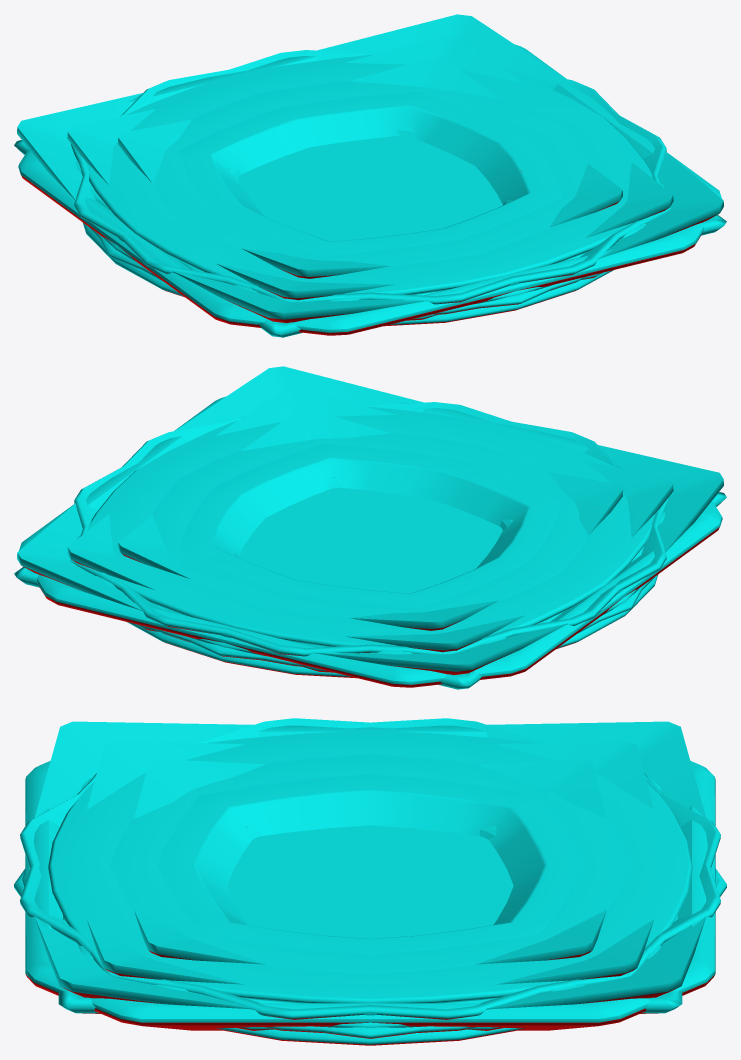
The model's file is plate_shards_grp.fbx.
3 views of the same model, one above another, from view 1: azimuth 30°, elevation 25°; view 2: azimuth 150°, elevation 25°; view 3: azimuth 270°, elevation 25° (orthographic). The views are drawn at different scales.
Visible parts, largest first — view 1: plate_18_shard_10, plate_18_shard_15, plate_18_shard_4, plate_16_shard_1, plate_30_shard_13, plate_16_shard_8, plate_30_shard_2, plate_15_shard_14, plate_15_shard_16, plate_15_shard_9, plate_18_shard_14, plate_17_shard_16 (+58 smaller); view 2: plate_18_shard_4, plate_18_shard_10, plate_18_shard_15, plate_16_shard_13, plate_30_shard_12, plate_15_shard_16, plate_16_shard_15, plate_30_shard_2, plate_18_shard_14, plate_15_shard_14, plate_17_shard_16, plate_15_shard_9 (+57 smaller); view 3: plate_18_shard_15, plate_18_shard_4, plate_16_shard_7, plate_18_shard_10, plate_16_shard_1, plate_18_shard_14, plate_30_shard_16, plate_18_shard_16, plate_30_shard_15, plate_15_shard_9, plate_16_shard_14, plate_16_shard_13 (+61 smaller).
Part boxes in pixels (x1,y1,x2,y2): plate_18_shard_10: [87, 166, 326, 302]; plate_18_shard_15: [321, 221, 605, 301]; plate_18_shard_4: [125, 56, 359, 131]; plate_16_shard_1: [178, 107, 309, 187]; plate_30_shard_13: [253, 258, 591, 335]; plate_16_shard_8: [361, 91, 484, 151]; plate_30_shard_2: [47, 186, 326, 326]; plate_15_shard_14: [368, 14, 595, 100]; plate_15_shard_16: [605, 151, 723, 255]; plate_15_shard_9: [17, 81, 189, 174]; plate_18_shard_14: [491, 67, 620, 140]; plate_17_shard_16: [167, 81, 345, 148]; plate_18_shard_4: [133, 578, 452, 654]; plate_18_shard_10: [479, 493, 669, 633]; plate_18_shard_15: [370, 408, 616, 483]; plate_16_shard_13: [385, 452, 516, 524]; plate_30_shard_12: [55, 587, 390, 685]; plate_15_shard_16: [175, 366, 414, 430]; plate_16_shard_15: [271, 444, 405, 504]; plate_30_shard_2: [453, 503, 722, 651]; plate_18_shard_14: [86, 456, 201, 531]; plate_15_shard_14: [17, 484, 116, 595]; plate_17_shard_16: [194, 574, 420, 619]; plate_15_shard_9: [220, 634, 527, 675]; plate_18_shard_15: [48, 773, 142, 929]; plate_18_shard_4: [599, 773, 692, 930]; plate_16_shard_7: [295, 774, 491, 831]; plate_18_shard_10: [133, 730, 537, 783]; plate_16_shard_1: [455, 787, 583, 885]; plate_18_shard_14: [326, 963, 562, 1003]; plate_30_shard_16: [343, 961, 714, 1030]; plate_18_shard_16: [76, 922, 329, 1003]; plate_30_shard_15: [25, 955, 348, 1030]; plate_15_shard_9: [554, 721, 711, 869]; plate_16_shard_14: [176, 778, 318, 841]; plate_16_shard_13: [157, 824, 250, 907].
Bounding box in the file's own units: 29.85 × 2.95 × 29.85.
